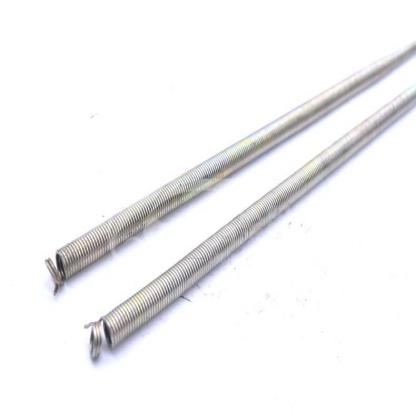FOD: (41, 39, 416, 300), (83, 80, 416, 364)
